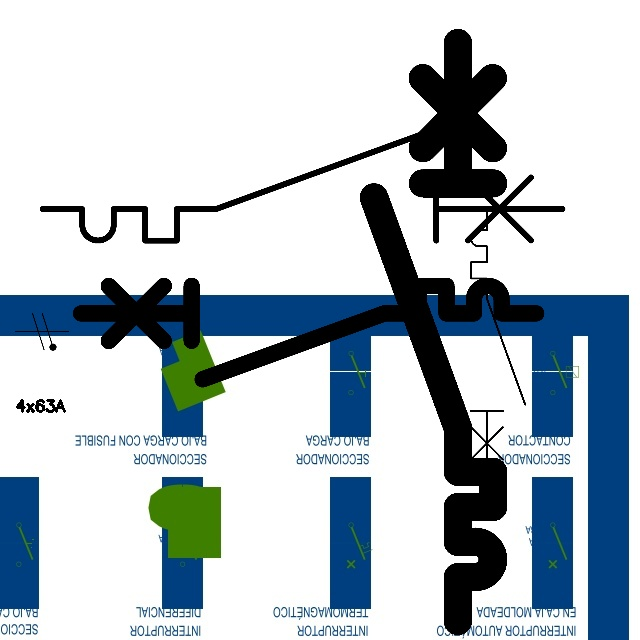interruptor_termomagnetico: (359, 28, 508, 636), (29, 120, 576, 254), (69, 274, 548, 391), (464, 203, 532, 482)
